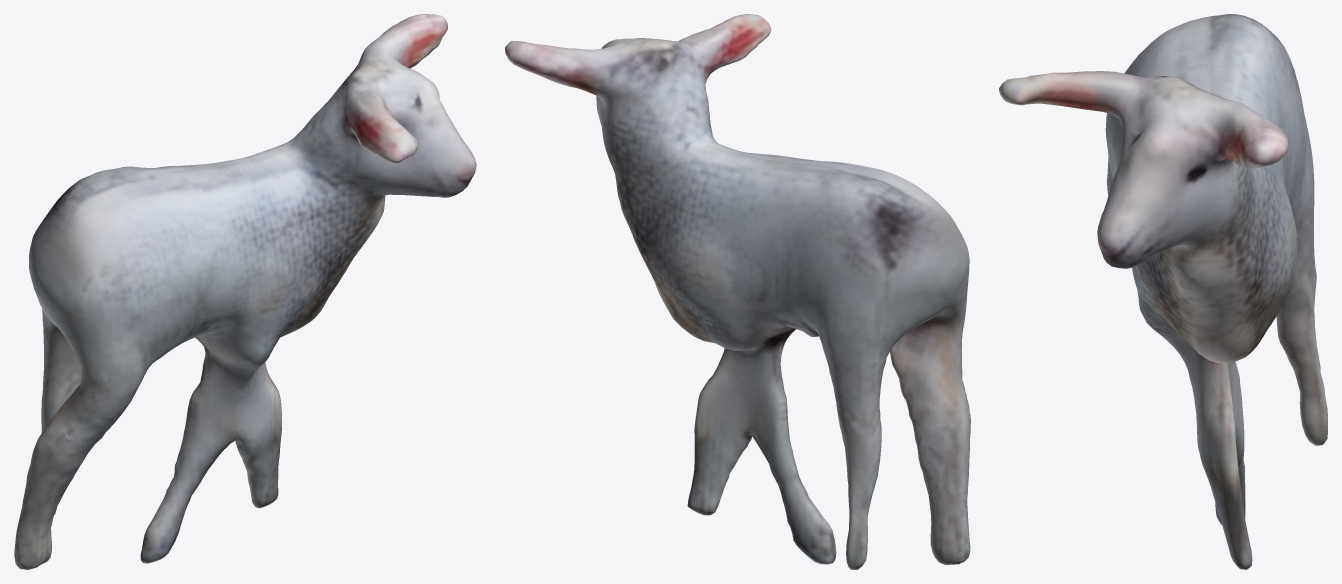
File: bebe.glb
3 views of the same model, side by side, from view 1: azimuth 30°, elevation 25°; view 2: azimuth 150°, elevation 25°; view 3: azimuth 270°, elevation 25° (orthographic). The views are drawn at different scales.
Visible parts, largest first — view 1: mesh; view 2: mesh; view 3: mesh.
Part boxes in pixels (<box>): mesh: <box>14,14,476,569</box>; mesh: <box>505,14,970,569</box>; mesh: <box>999,14,1327,569</box>.
Bounding box in the file's own units: 1.4 × 1.39 × 0.7381.
Materials: 1 (1 with a texture image).
